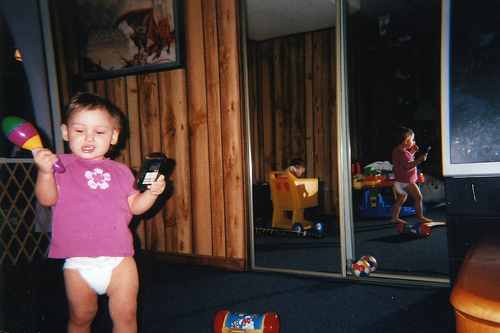without_mask: (62, 103, 118, 161), (395, 131, 418, 150), (290, 160, 309, 178)
